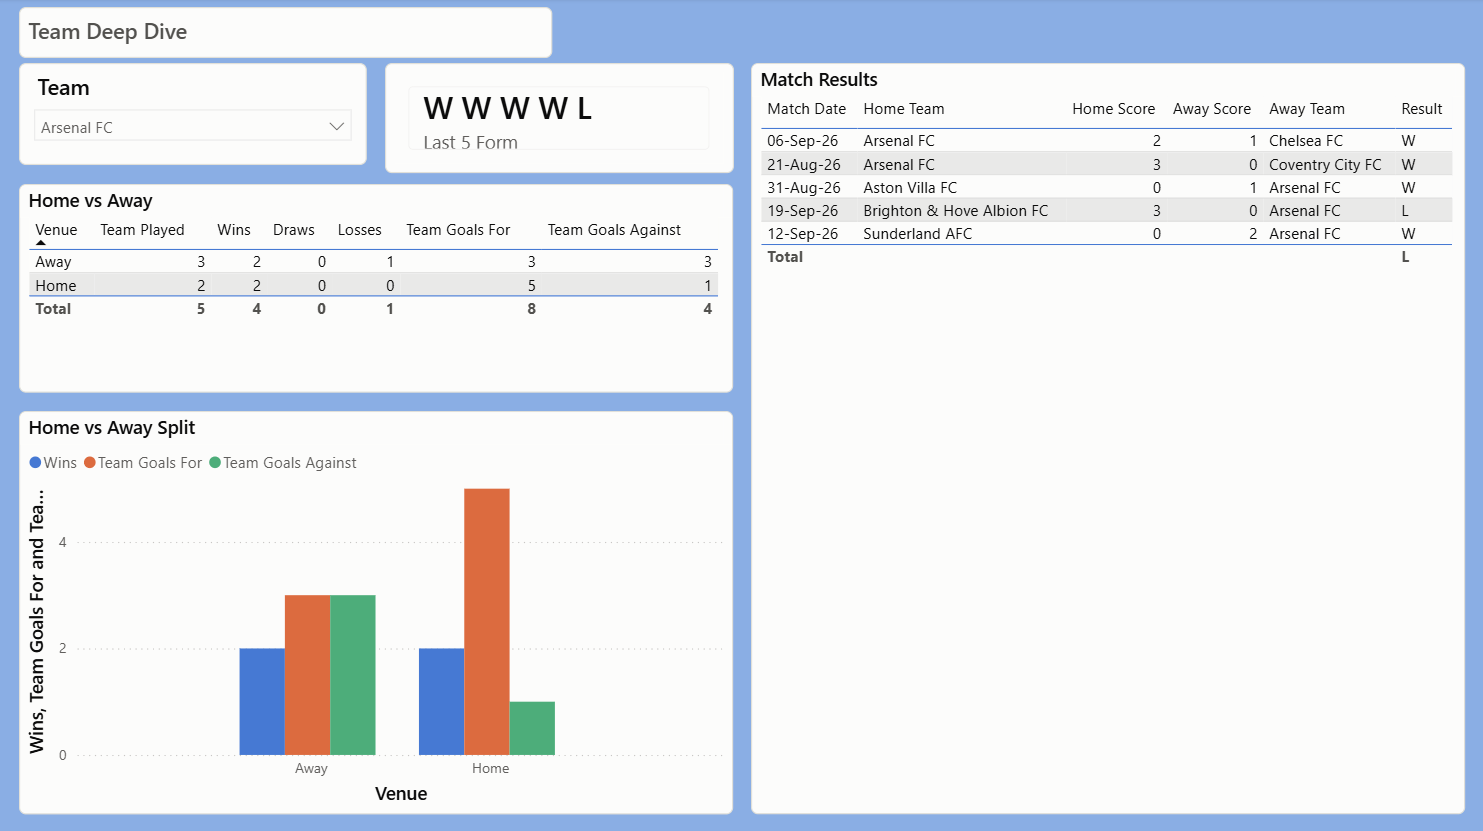

Layout of this report page (visuals, bound fields, positions):
{"tool":"powerbi","page":{"name":"Team Deep Dive","canvas":[1280,720],"ordinal":2},"visuals":[{"type":"slicer","fields":{"Values":["Team Select.Team"]},"box":[16,56,300,88],"z":0},{"type":"cardVisual","fields":{"Data":["Team Select.Last 5 Form"]},"box":[332,56,300,88],"z":1},{"type":"tableEx","title":"Home vs Away","fields":{"Values":["Venue.Venue","Team Select.Played","Team Select.Wins","Team Select.Draws","Team Select.Losses","Team Select.Goals For","Team Select.Goals Against"]},"box":[16,160,616,180],"z":2},{"type":"tableEx","title":"Match Results","fields":{"Values":["public fact_matches.Match Date","public fact_matches.Home Team","public fact_matches.Home Score","public fact_matches.Away Score","public fact_matches.Away Team","Team Select.Result"]},"box":[648,56,616,648],"z":3},{"type":"clusteredColumnChart","title":"Home vs Away Split","fields":{"Category":["Venue.Venue"],"Y":["Team Select.Wins","Team Select.Team Goals For","Team Select.Team Goals Against"]},"box":[16,356,616,348],"z":4},{"type":"textbox","box":[16,8,460,44],"z":5}]}

Visuals, with their boxes in screenshot pixels (x1, y1, x2, y2), scaled from the page's 1280x720 canvas onto the 1483x831 screenshot:
slicer - Team Select.Team: [19,65,366,166]
cardVisual - Team Select.Last 5 Form: [385,65,732,166]
"Home vs Away" tableEx: [19,185,732,392]
"Match Results" tableEx: [751,65,1464,813]
"Home vs Away Split" clusteredColumnChart: [19,411,732,813]
textbox: [19,9,551,60]
